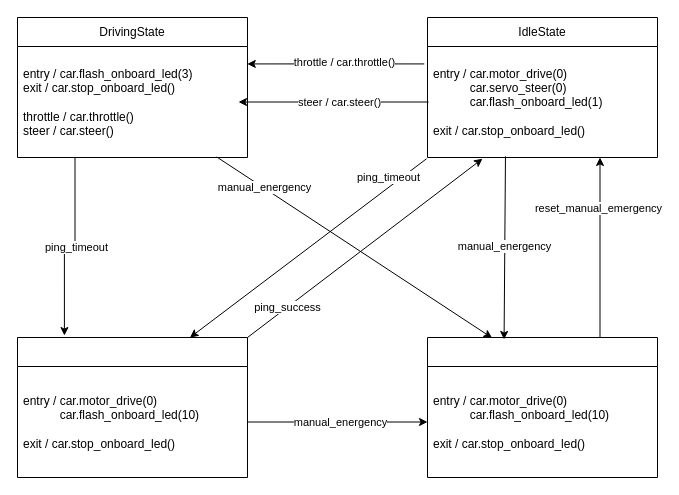
Some shapes in this 679 by 495 pixel diagram are drawn without their labels. The shapes that lost their labels are listed below. From the top down, each one's box as (x1, y1, x2, y2) in pixels, then its label:
(16, 336, 248, 478): AutomaticEmergencyStopState
(426, 336, 658, 478): Manual EmergencyStopState
